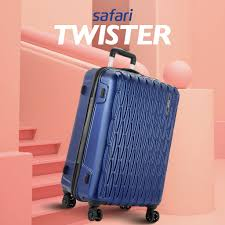suitcase: (59, 49, 181, 223)
